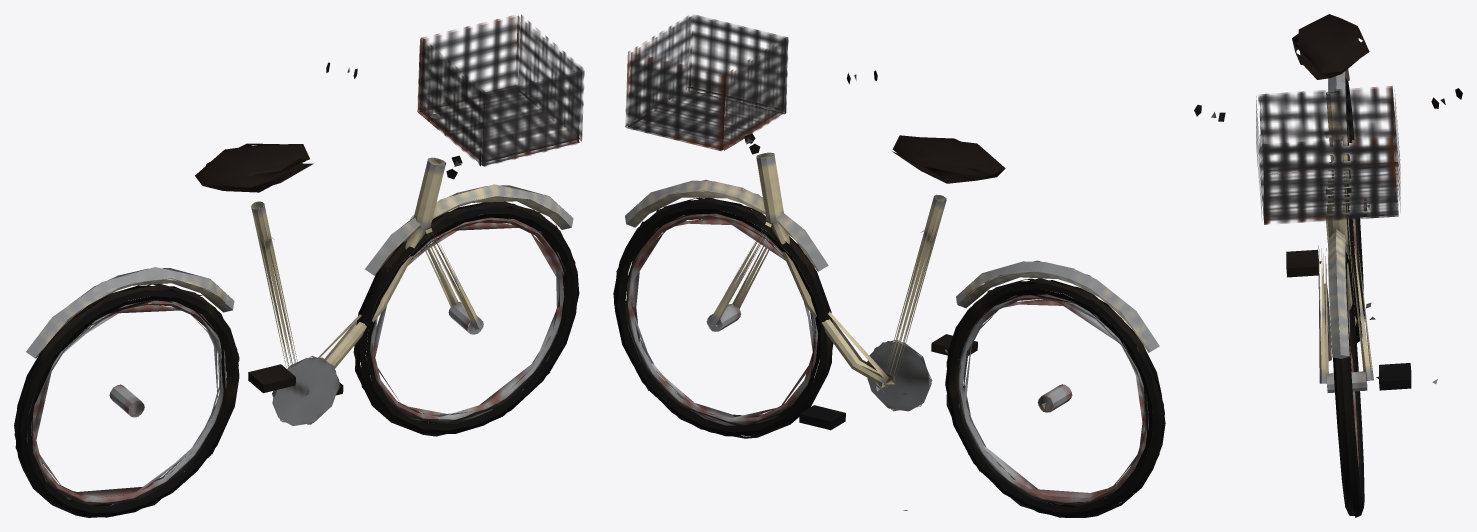
The model's file is bicycle_lod1.glb.
The picture shows the model from 3 angles, left to right: view 1: azimuth 30°, elevation 25°; view 2: azimuth 150°, elevation 25°; view 3: azimuth 270°, elevation 25°; orthographic projection. The views are drawn at different scales.
Parts seen in each view (by area): view 1: bicycle; view 2: bicycle; view 3: bicycle.
Boxes of the visible parts, box(x1,y1,x2,y2) form: bicycle: box(14, 14, 584, 517); bicycle: box(613, 15, 1165, 517); bicycle: box(1194, 14, 1462, 517).
Size of what is drawn, in the model's own units: 1.72 by 1.13 by 0.6782.
1 material, 1 textured.
